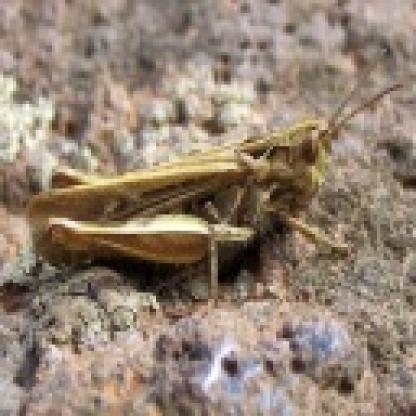grasshopper: (21, 99, 361, 270)
